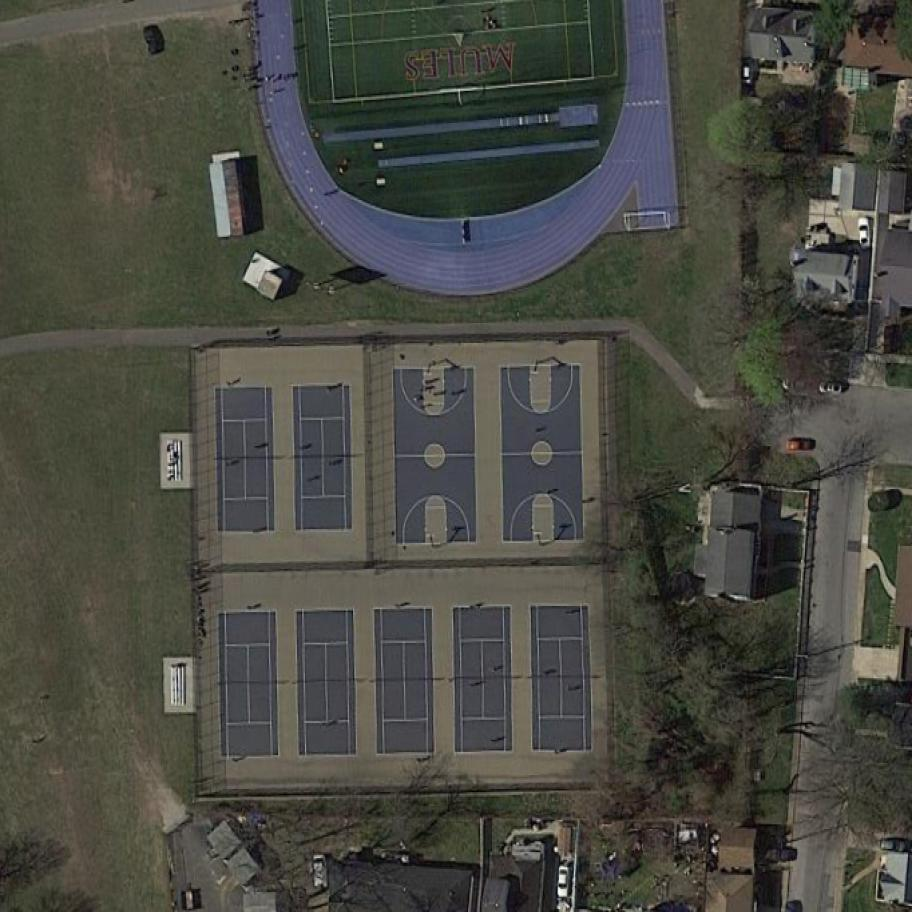small-vehicle: (313, 855, 329, 887), (858, 217, 872, 252), (766, 849, 798, 864), (879, 838, 909, 854), (558, 864, 571, 900), (785, 438, 816, 452), (819, 380, 845, 395), (742, 63, 754, 86)
